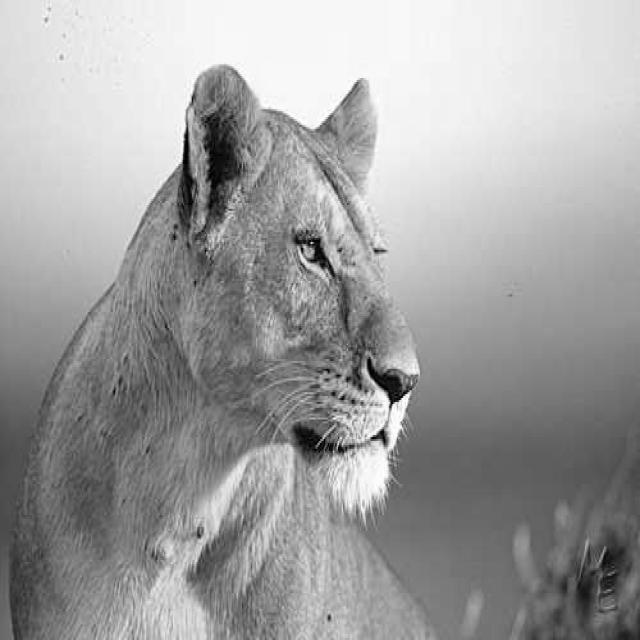Lion: (118, 65, 464, 609)
